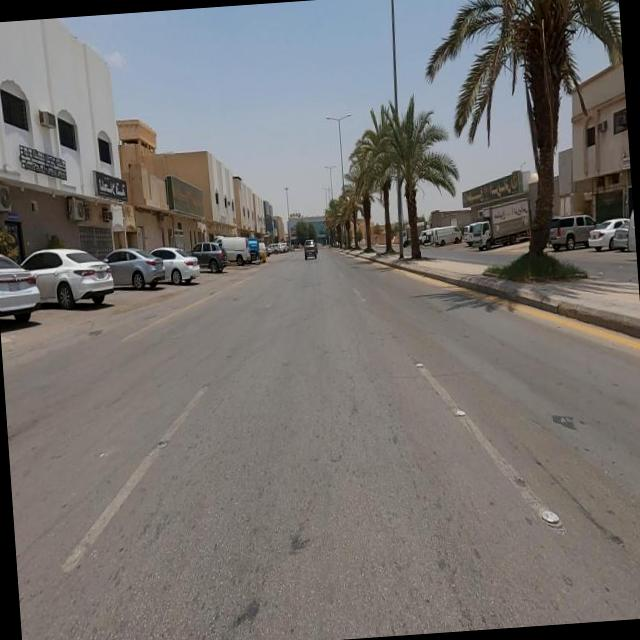debris: (128, 155, 236, 248)
